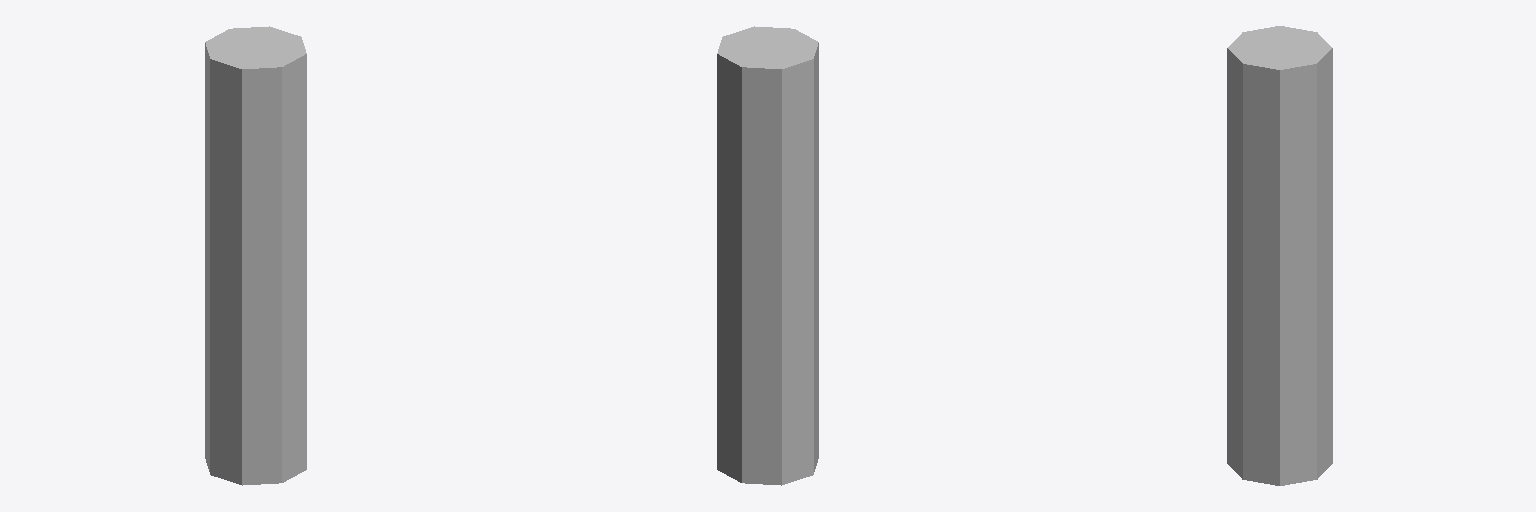
The model's file is pillar-light.obj.
3 views of the same model, side by side, from view 1: azimuth 30°, elevation 25°; view 2: azimuth 150°, elevation 25°; view 3: azimuth 270°, elevation 25° (orthographic).
Parts seen in each view (by area): view 1: Cylinder; view 2: Cylinder; view 3: Cylinder.
Boxes of the visible parts, <box> form: Cylinder: <box>205,26,306,485</box>; Cylinder: <box>717,26,818,485</box>; Cylinder: <box>1227,26,1332,485</box>.
Bounding box in the file's own units: 1 × 4.36 × 1.